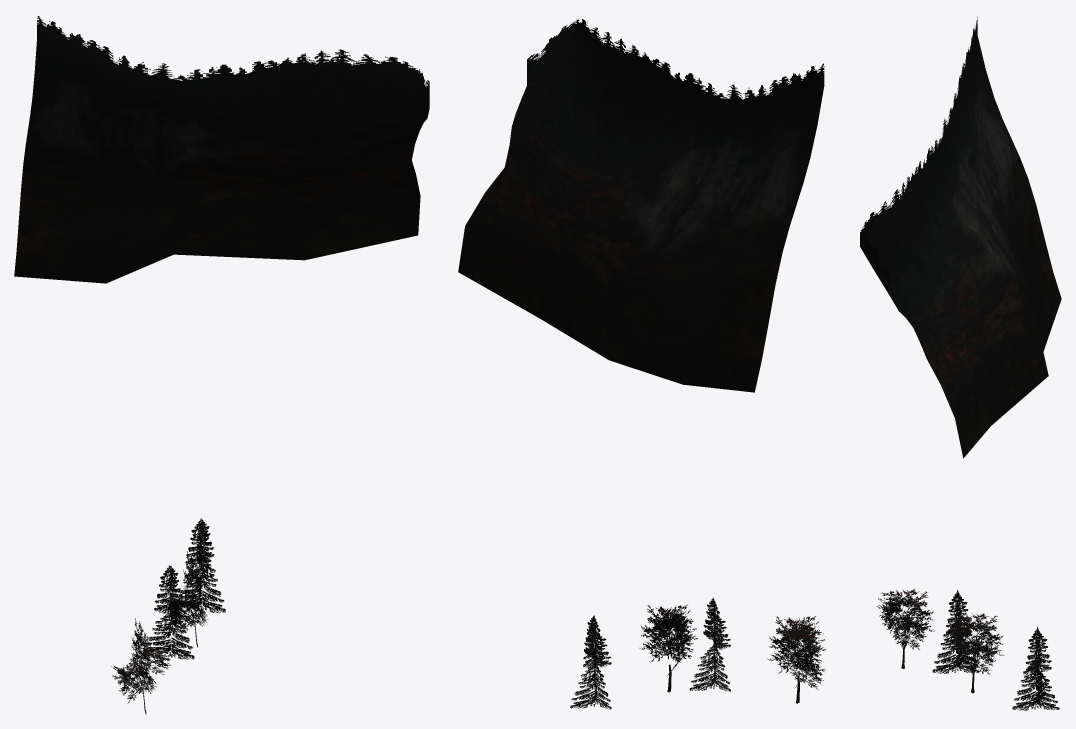
Rendered from cell_13_-14.gltf.
3 views of the same model, side by side, from view 1: azimuth 30°, elevation 25°; view 2: azimuth 150°, elevation 25°; view 3: azimuth 270°, elevation 25° (orthographic). The views are drawn at different scales.
Parts seen in each view (by area): view 1: cell_13_-14; view 2: cell_13_-14; view 3: cell_13_-14.
Boxes of the visible parts, bbox=[...] form: cell_13_-14: bbox=[14, 16, 429, 714]; cell_13_-14: bbox=[458, 19, 825, 709]; cell_13_-14: bbox=[860, 16, 1061, 710].
Bounding box in the file's own units: 147 × 259 × 75.95.
Materials: 5 (5 with a texture image).
